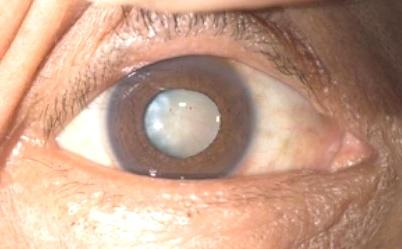eye: (109, 57, 252, 177)
